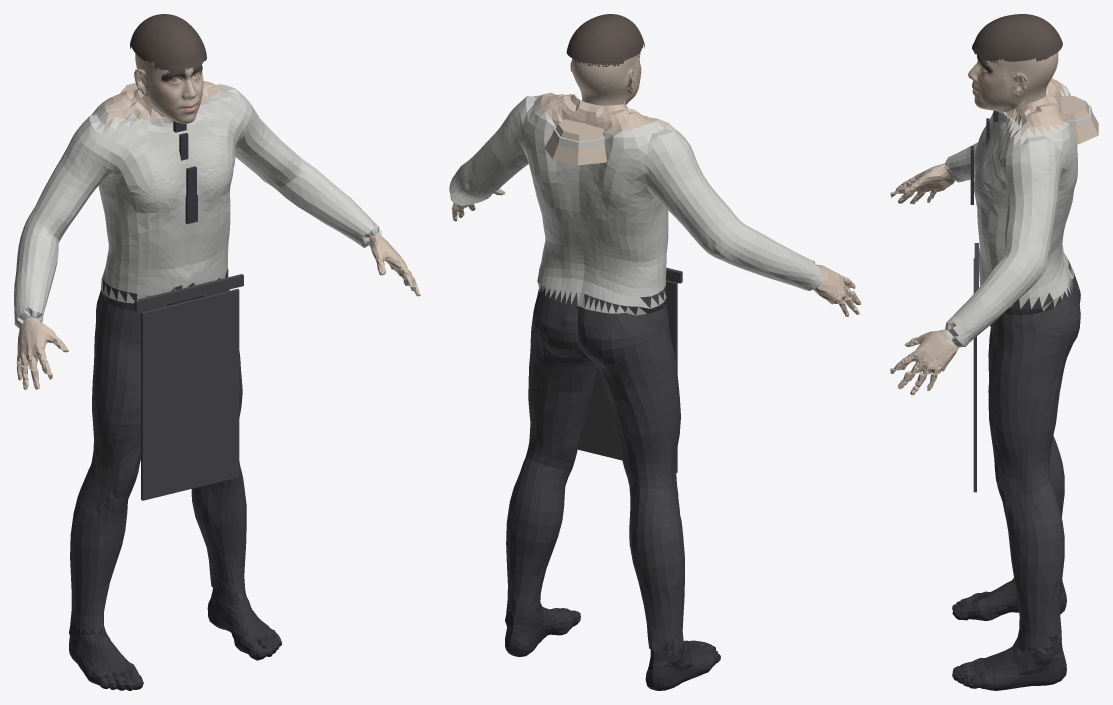
Rendered from john_frank_gnm.glb.
3 views of the same model, side by side, from view 1: azimuth 30°, elevation 25°; view 2: azimuth 150°, elevation 25°; view 3: azimuth 270°, elevation 25° (orthographic).
Visible parts, largest first — view 1: john_frank_portrait; view 2: john_frank_portrait; view 3: john_frank_portrait.
Boxes of the visible parts, left/top/right/bottom form: john_frank_portrait: left=14, top=14, right=420, bottom=690; john_frank_portrait: left=449, top=14, right=861, bottom=690; john_frank_portrait: left=890, top=14, right=1098, bottom=690.
Size of the model in its own units: 1.1 by 1.69 by 0.5057.
